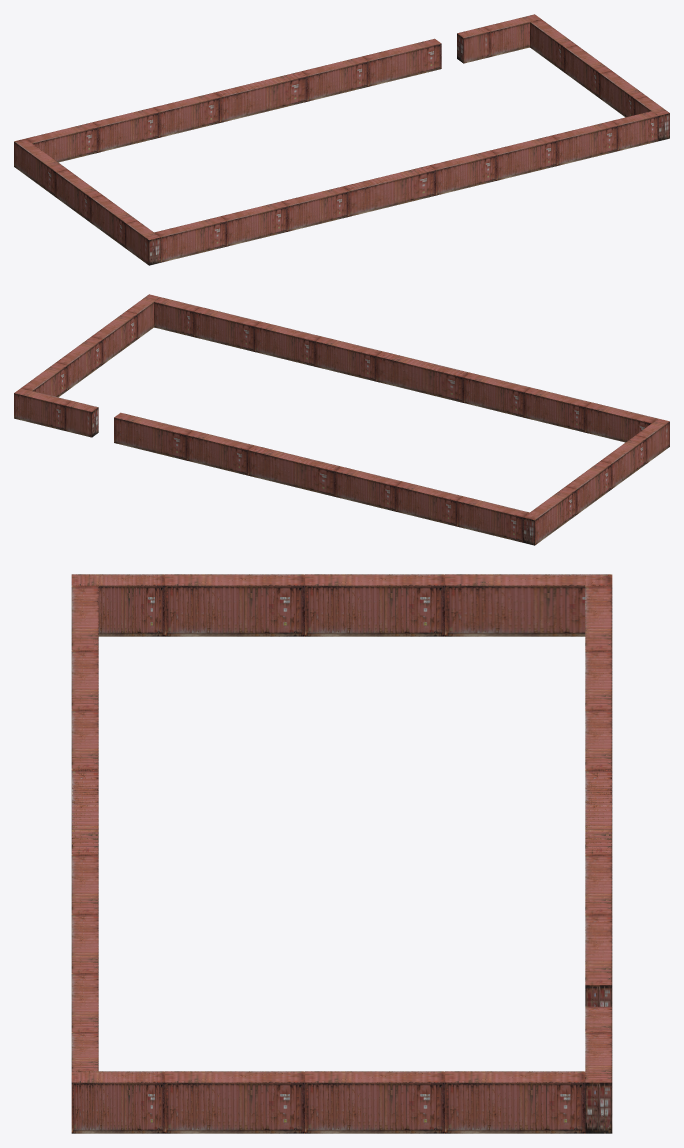
Rendered from Outside_Wall.fbx.
The picture shows the model from 3 angles, top to bottom: view 1: azimuth 30°, elevation 25°; view 2: azimuth 150°, elevation 25°; view 3: azimuth 270°, elevation 25°; orthographic projection. The views are drawn at different scales.
Visible parts, largest first — view 1: Outside_Wall; view 2: Outside_Wall; view 3: Outside_Wall.
Part boxes in pixels (x1,y1,x2,y2): Outside_Wall: (14, 14, 669, 265); Outside_Wall: (14, 294, 669, 545); Outside_Wall: (71, 574, 612, 1133).
Size of the model in its own units: 6206 by 289 by 2787.
1 material, 1 textured.
